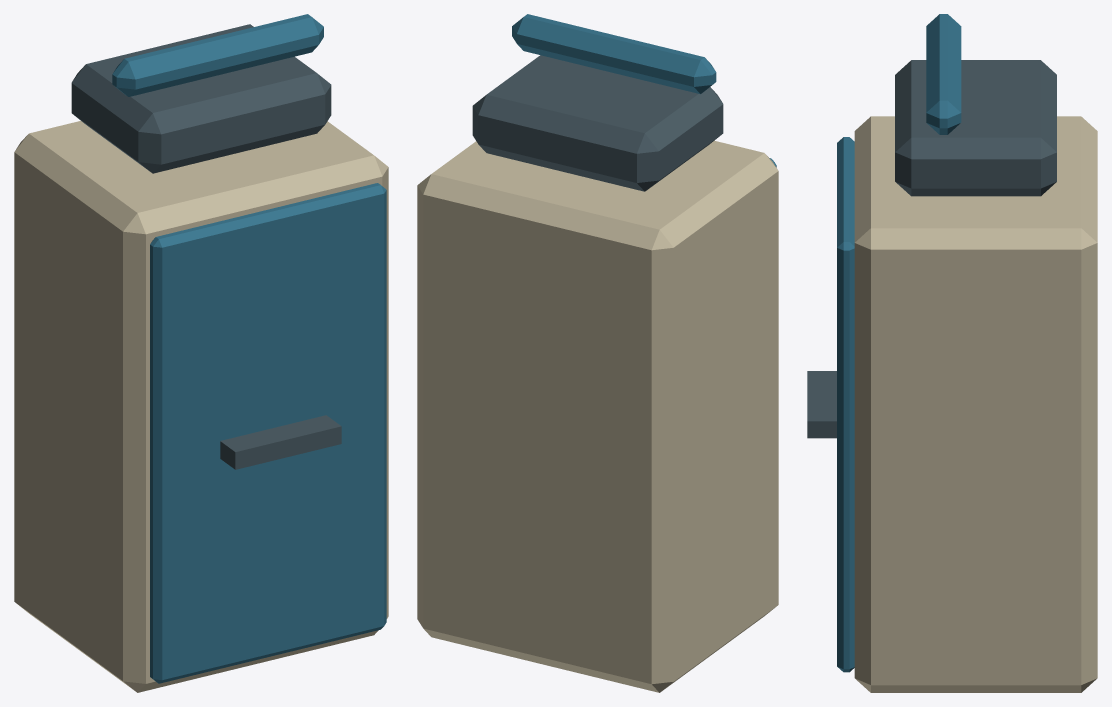
Rendered from telephone_station.glb.
3 renders of one model, left to right at view 1: azimuth 30°, elevation 25°; view 2: azimuth 150°, elevation 25°; view 3: azimuth 270°, elevation 25°, orthographic. The views are drawn at different scales.
Visible parts, largest first — view 1: telephone_station; view 2: telephone_station; view 3: telephone_station.
Boxes of the visible parts, x1,y1,x2,y2 form: telephone_station: (14,14,388,692); telephone_station: (417,14,778,692); telephone_station: (807,14,1097,692).
Size of the model in its own units: 0.55 by 1.18 by 0.5375.
